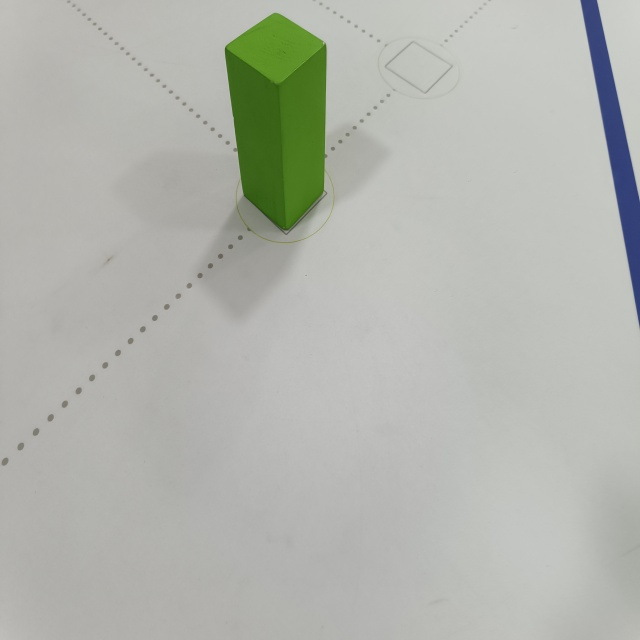blue line: (577, 0, 637, 319)
green rectangular prism: (223, 14, 334, 233)
